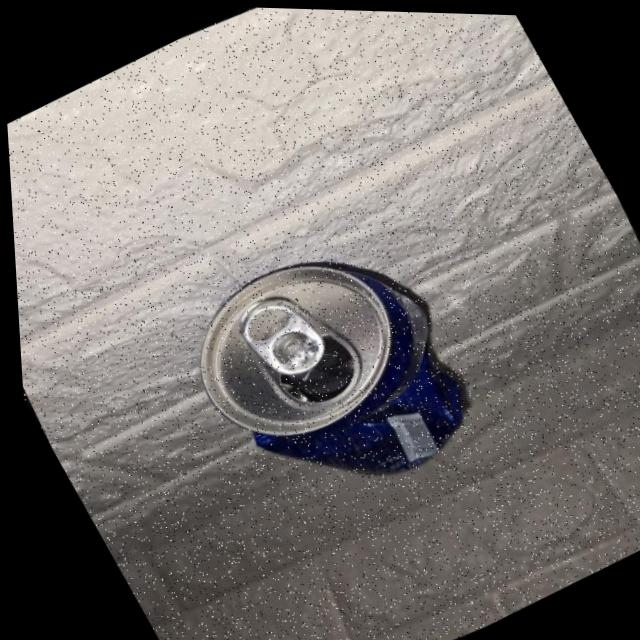metal: (146, 197, 527, 556)
